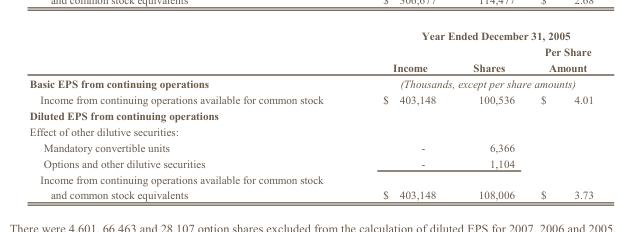table: (28, 28, 592, 200)
table column: (28, 28, 352, 200), (352, 28, 453, 200), (453, 28, 527, 200), (527, 28, 592, 200)
table column header: (28, 28, 592, 74)
table projected row header: (28, 106, 592, 122), (28, 122, 592, 138)
table row: (28, 42, 592, 74), (28, 170, 592, 200), (28, 74, 592, 90), (28, 90, 592, 106), (28, 106, 592, 122), (28, 122, 592, 138), (28, 138, 592, 154), (28, 154, 592, 170), (28, 28, 592, 42)
table spanning cell: (352, 74, 592, 90), (352, 28, 592, 42)
